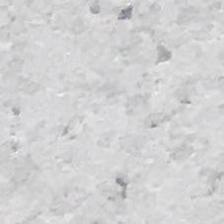Non_Crack: (22, 11, 207, 210)
